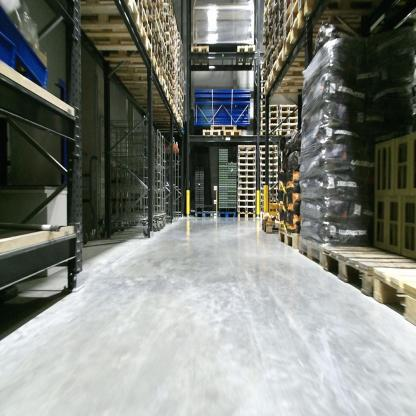pallets: (263, 216, 416, 338), (256, 0, 389, 97), (127, 0, 185, 106), (167, 204, 269, 220), (235, 145, 257, 218), (259, 146, 282, 209), (267, 101, 299, 137)
